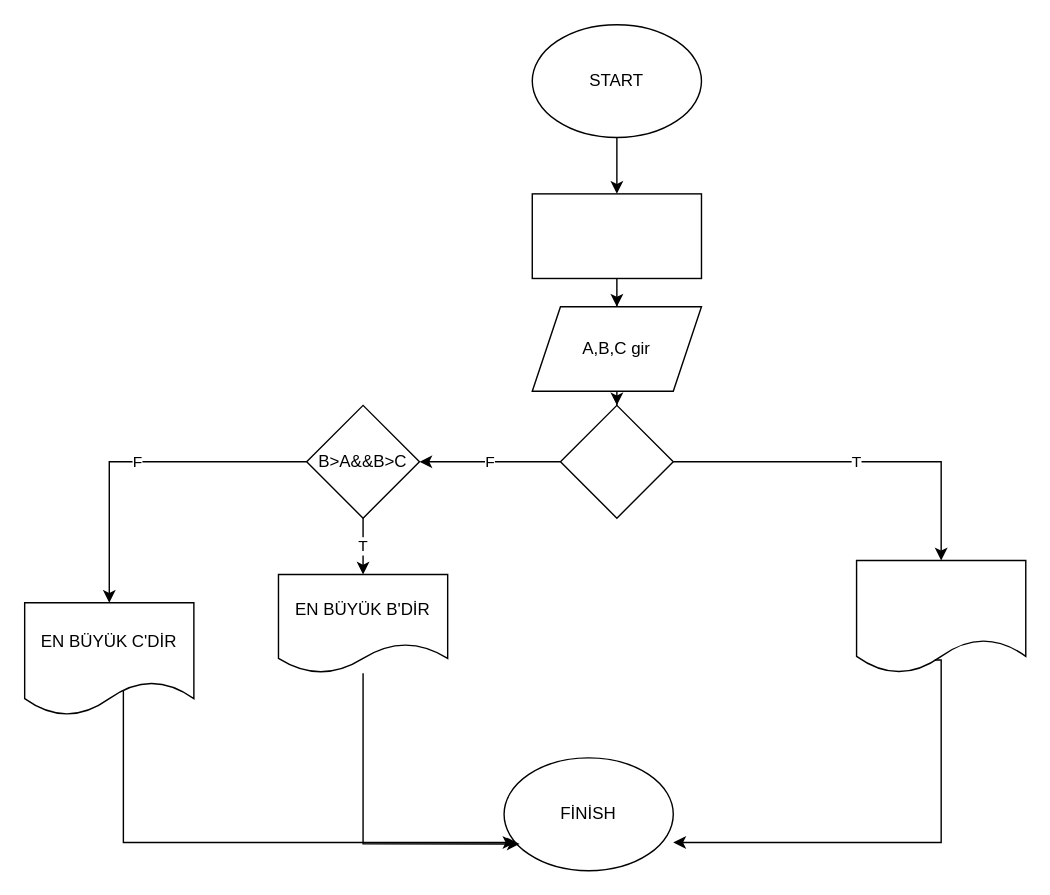
This 1050x895 diagram has some shape labels left out. The centre of each missing label's shape, as x and y in pixels:
"A,B,C" goes at [616,235].
"A>B&&A>C" goes at [616,461].
"EN BÜYÜK A'DIR" goes at [940,616].
